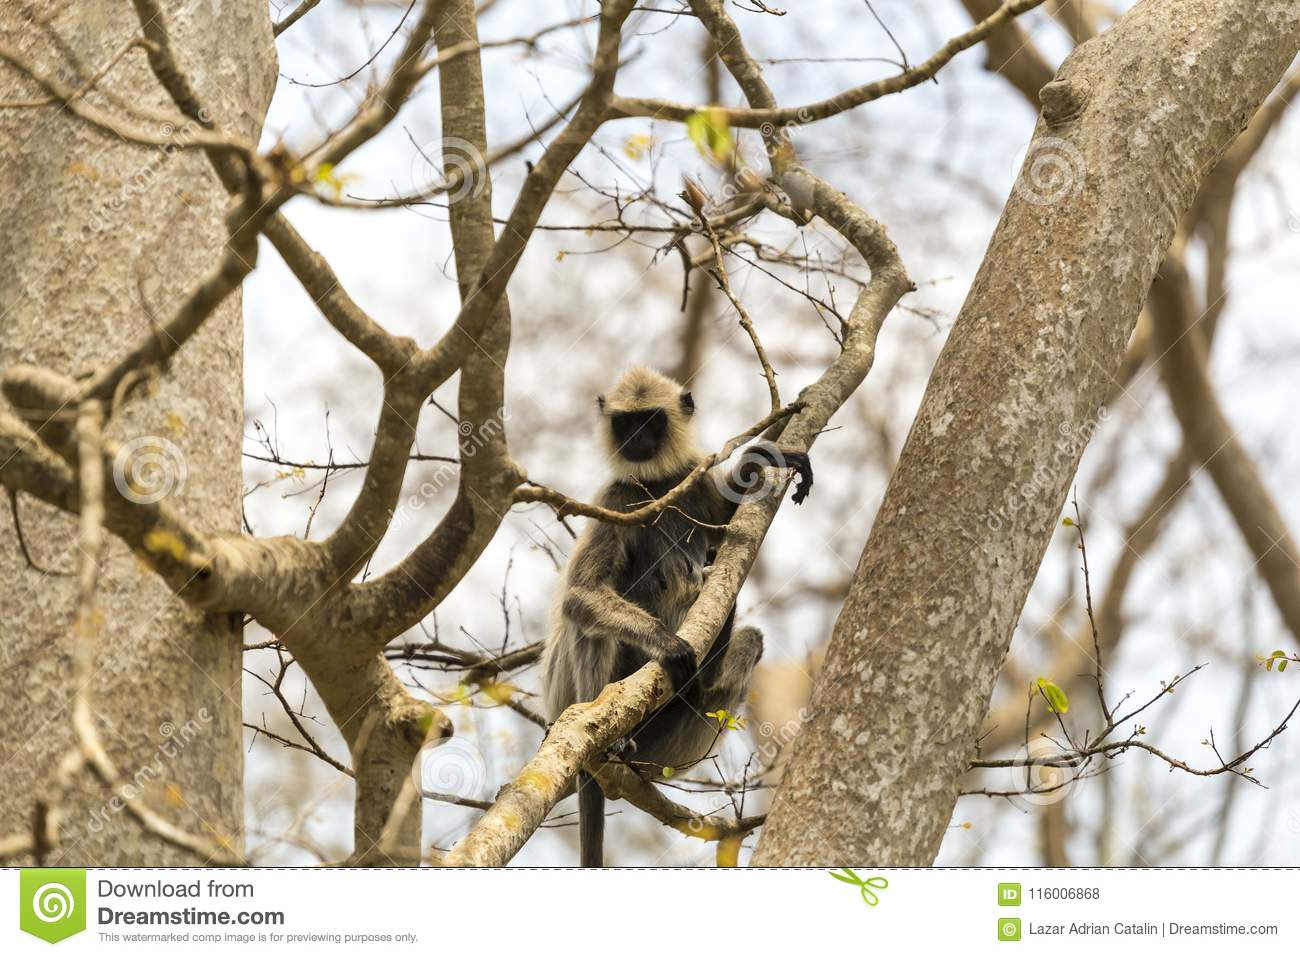monkey: (542, 358, 822, 846)
